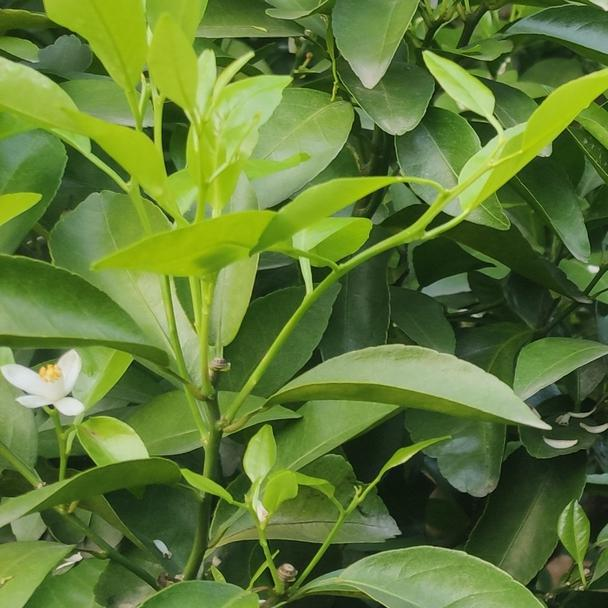shoot: (196, 73, 608, 340), (102, 28, 294, 378), (193, 433, 304, 572)
